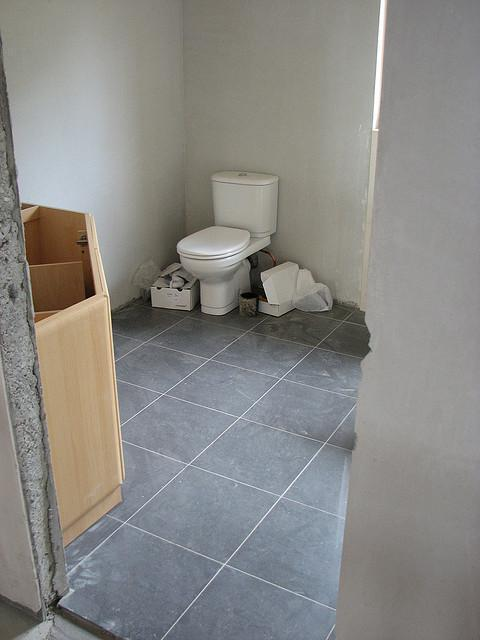Sanitario: (176, 168, 280, 319)
